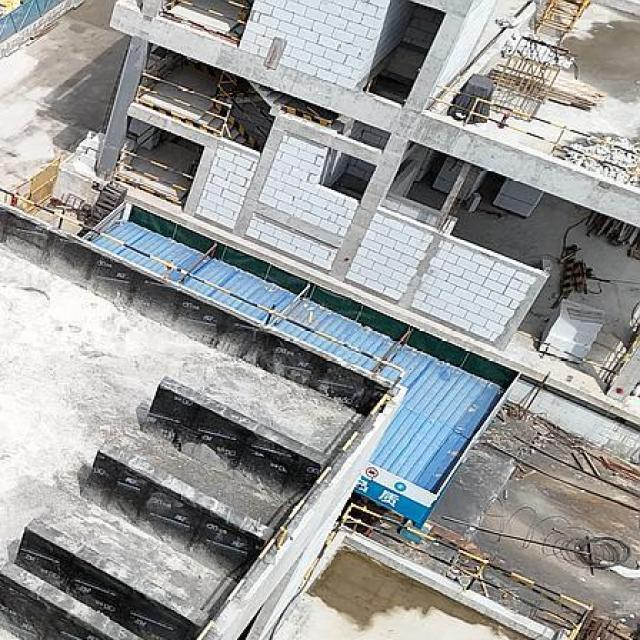edge_guardrail: (0, 187, 409, 640), (304, 501, 595, 640), (433, 84, 637, 170), (135, 69, 232, 134), (516, 329, 616, 392), (114, 148, 194, 192), (177, 0, 250, 26)
